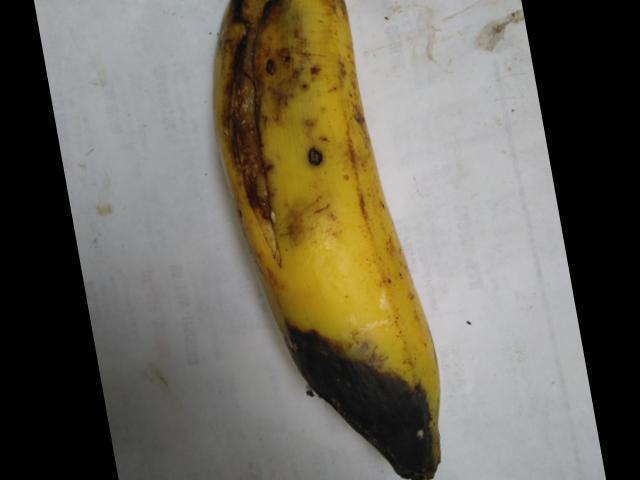rotten: (277, 308, 471, 475), (198, 0, 320, 262)
